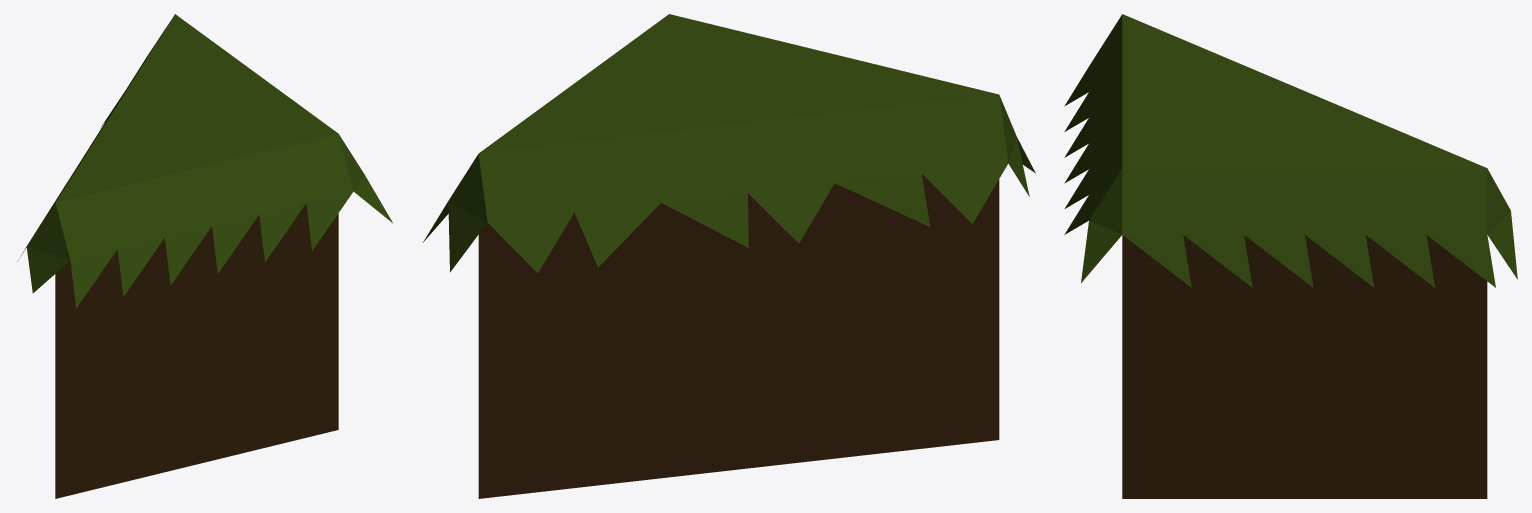
The model's file is Tile_Tri_Tree.fbx.
3 renders of one model, left to right at view 1: azimuth 30°, elevation 25°; view 2: azimuth 150°, elevation 25°; view 3: azimuth 270°, elevation 25°, orthographic. The views are drawn at different scales.
Visible parts, largest first — view 1: blockCornerLarge; view 2: blockCornerLarge; view 3: blockCornerLarge.
Boxes of the visible parts, x1,y1,x2,y2 form: blockCornerLarge: (17,14,393,498); blockCornerLarge: (423,14,1035,498); blockCornerLarge: (1064,14,1517,498).
Bounding box in the file's own units: 48.97 × 48.95 × 39.37.
